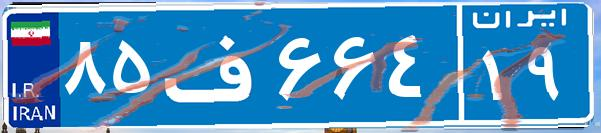1: (475, 38, 525, 113)
4: (385, 28, 445, 110)
5: (110, 28, 158, 105)
6: (273, 28, 330, 110), (330, 28, 385, 110)
8: (57, 26, 110, 107)
9: (525, 38, 570, 115)
ف: (158, 15, 273, 115)
